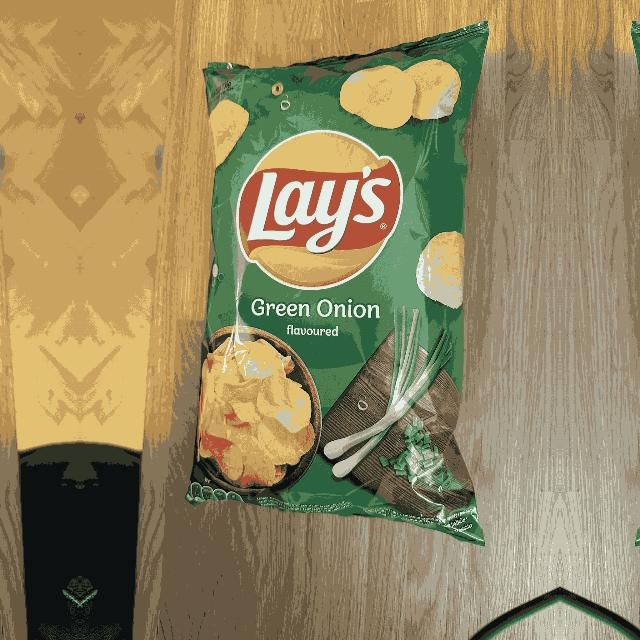lays: (237, 131, 404, 292)
